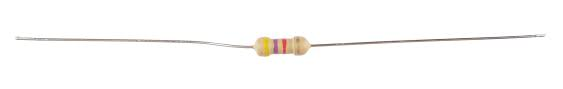resistor: (232, 17, 322, 75)
